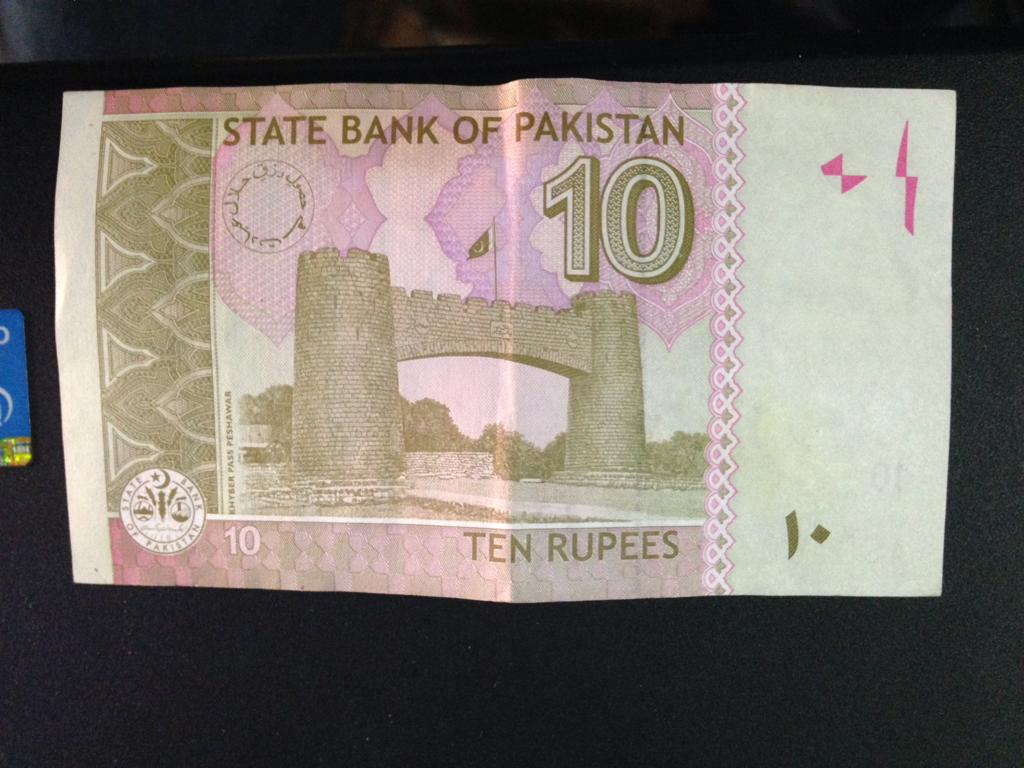10 rupee: (40, 70, 966, 624)
